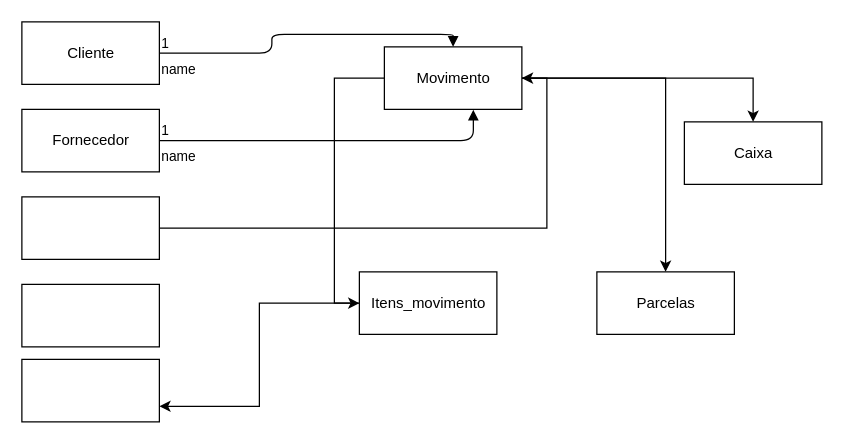
The diagram is 844 pixels wide and 444 high, and some of its shapes have lost their labels. Each missing label, with the centre of its shape:
"Categoria" belongs at (x=90, y=315).
"Funcionario" belongs at (x=90, y=227).
"Produto" belongs at (x=90, y=390).
